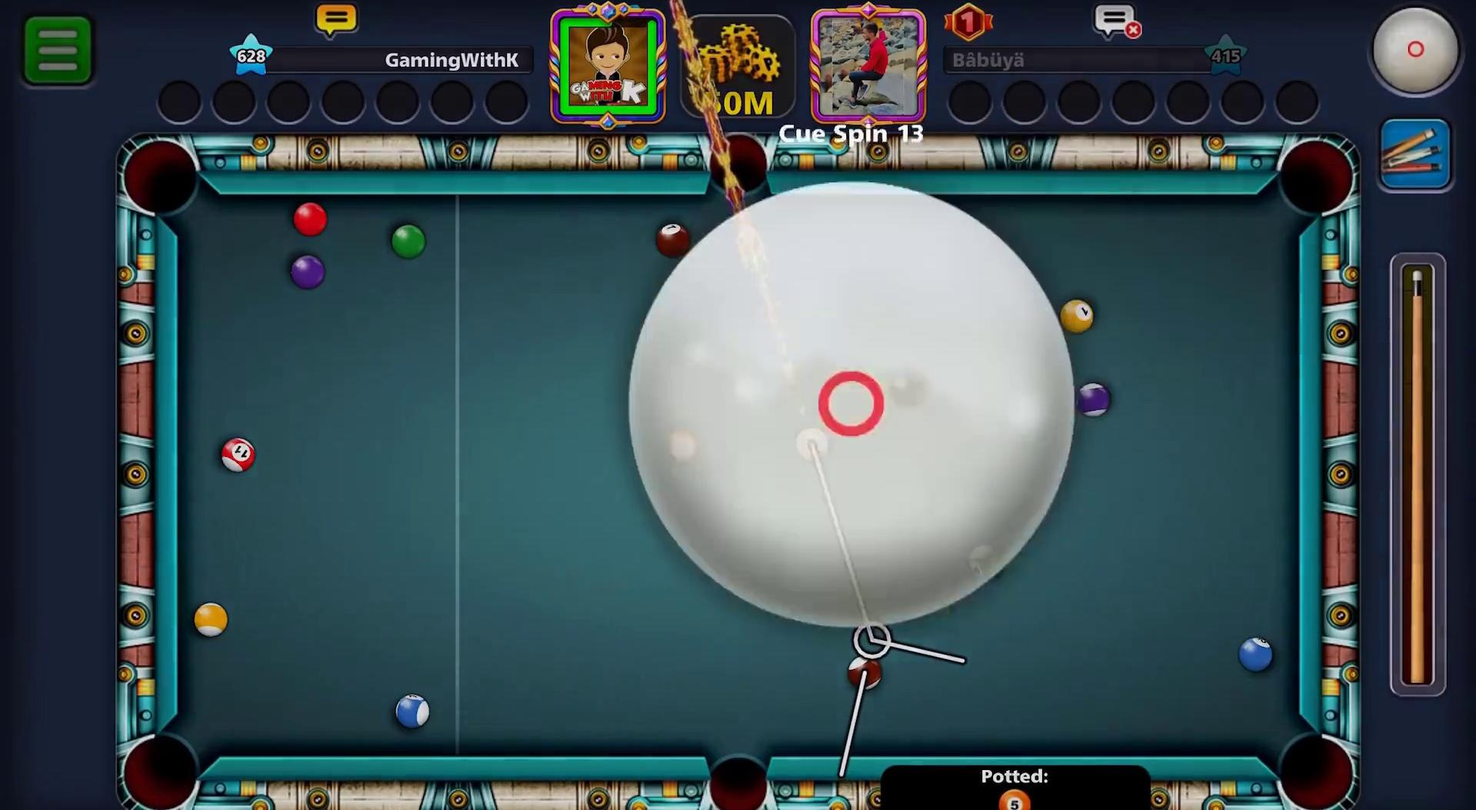Ball: (283, 248, 337, 298), (644, 213, 699, 262), (879, 364, 932, 413), (1057, 291, 1104, 344), (838, 649, 887, 699), (286, 198, 338, 242), (1237, 627, 1278, 678), (965, 540, 1006, 587), (388, 222, 424, 259), (195, 601, 231, 638), (662, 425, 698, 462), (217, 434, 253, 471), (391, 694, 427, 730), (1077, 382, 1113, 418)
Force: (1384, 249, 1458, 699)
Guideline: (804, 441, 970, 782)
Hole: (109, 123, 221, 233), (98, 719, 222, 810), (1259, 715, 1364, 810), (1272, 122, 1359, 226), (697, 125, 782, 219), (692, 742, 786, 810)
Play_Area: (177, 196, 1299, 757)
Spin: (619, 179, 1082, 637), (1330, 0, 1476, 113)
White: (792, 417, 837, 463)
